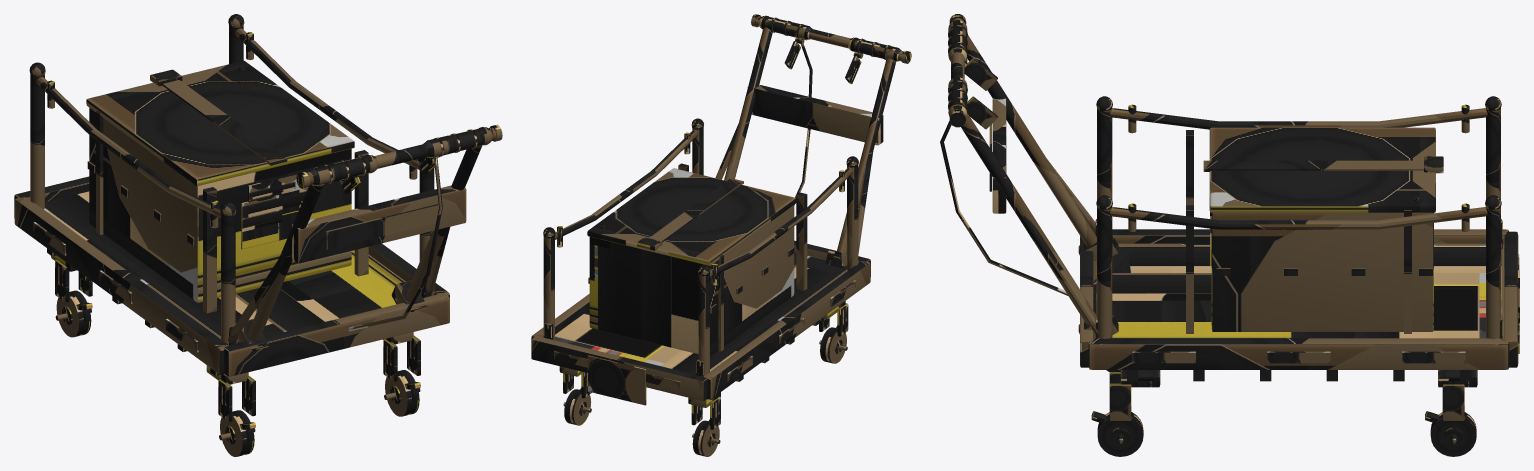
Rendered from PR_loot_cart.glb.
3 views of the same model, side by side, from view 1: azimuth 30°, elevation 25°; view 2: azimuth 150°, elevation 25°; view 3: azimuth 270°, elevation 25° (orthographic). The views are drawn at different scales.
Parts seen in each view (by area): view 1: PR_loot_cart; view 2: PR_loot_cart; view 3: PR_loot_cart.
Part boxes in pixels (left/top/right/bottom): PR_loot_cart: left=14, top=14, right=502, bottom=456; PR_loot_cart: left=531, top=14, right=911, bottom=456; PR_loot_cart: left=940, top=14, right=1519, bottom=456.
Size of the model in its own units: 0.696 by 0.9772 by 1.46.
1 material, 1 textured.
